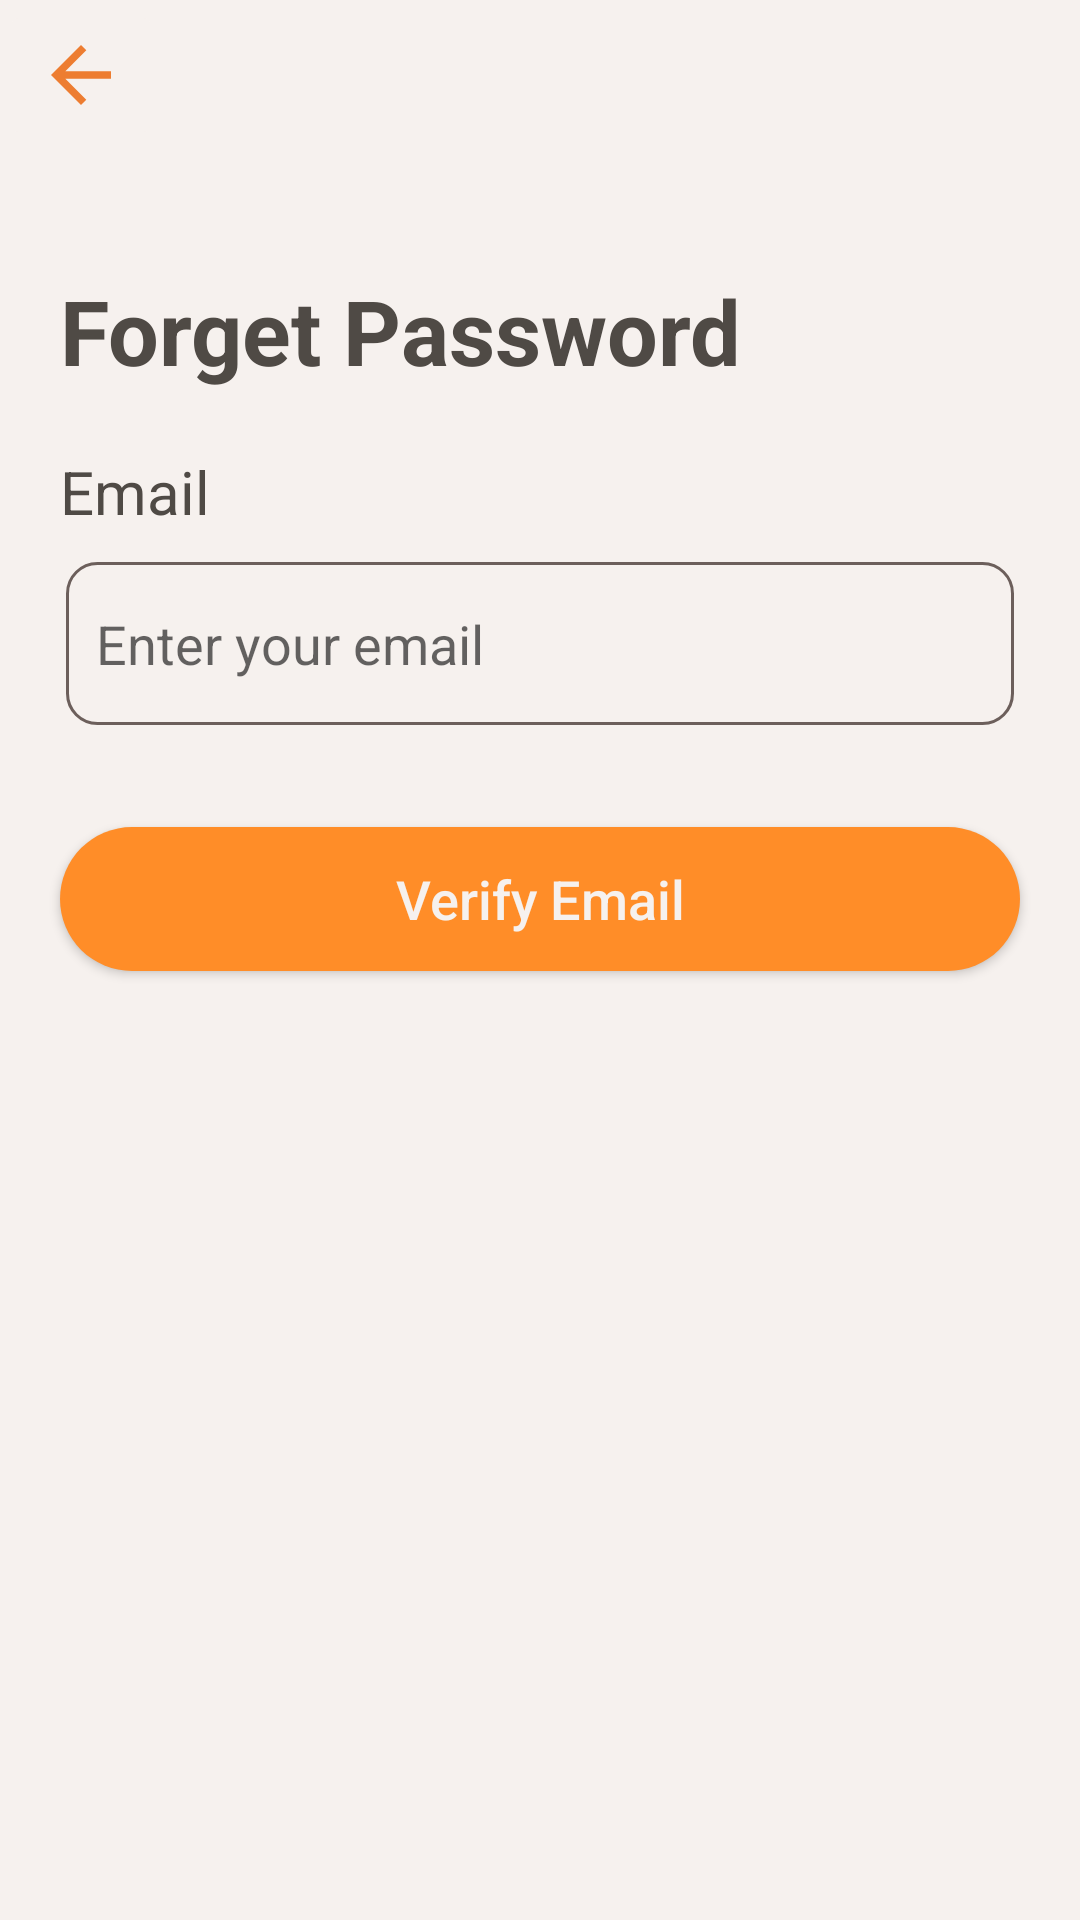

Point at icon controls on the screen. Image size 1080 × 1920, points as (x=x, y=y).
arrow back: (x=81, y=75)
